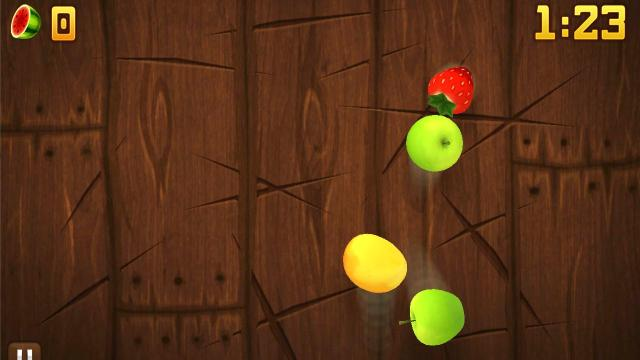fruit: (342, 232, 408, 294), (406, 115, 464, 173), (406, 289, 466, 345), (426, 66, 478, 120)
ignore: (9, 3, 43, 41)
